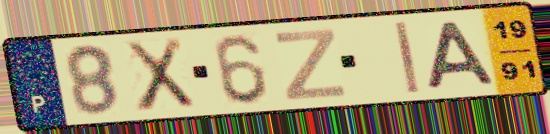6: (212, 30, 271, 108)
8: (63, 42, 121, 118)
A: (424, 19, 500, 91)
I: (391, 19, 423, 96)
X: (121, 35, 198, 115)
Z: (272, 26, 348, 102)
